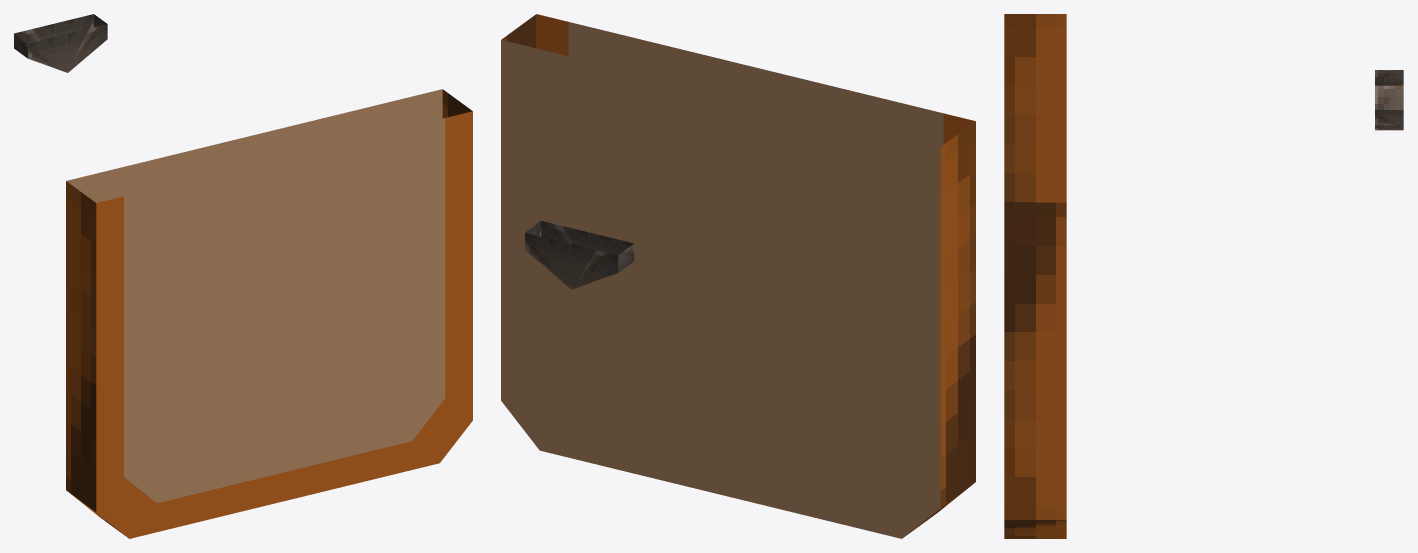
File: pz_g019_spiffos_type_a_table_part1.obj
The picture shows the model from 3 angles, left to right: view 1: azimuth 30°, elevation 25°; view 2: azimuth 150°, elevation 25°; view 3: azimuth 270°, elevation 25°; orthographic projection. The views are drawn at different scales.
Visible parts, largest first — view 1: tabletop_top, tabletop_rim, tabletop_bottom, tabletop_edge, pedestal_1_cap1, pedestal_1_cap0; view 2: tabletop_bottom, tabletop_edge, tabletop_top, pedestal_1_cap0, tabletop_rim, pedestal_1_cap1; view 3: tabletop_edge, pedestal_1_side.
Boxes of the visible parts, bbox=[...] form: tabletop_top: bbox=[124, 118, 445, 503]; tabletop_rim: bbox=[96, 111, 472, 538]; tabletop_bottom: bbox=[66, 89, 442, 202]; tabletop_edge: bbox=[66, 89, 472, 537]; pedestal_1_cap1: bbox=[28, 24, 107, 72]; pedestal_1_cap0: bbox=[14, 14, 93, 43]; tabletop_bottom: bbox=[501, 40, 940, 538]; tabletop_edge: bbox=[501, 14, 975, 536]; tabletop_top: bbox=[568, 22, 943, 146]; pedestal_1_cap0: bbox=[525, 232, 618, 289]; tabletop_rim: bbox=[536, 14, 975, 144]; pedestal_1_cap1: bbox=[541, 221, 633, 254]; tabletop_edge: bbox=[1004, 14, 1066, 538]; pedestal_1_side: bbox=[1375, 70, 1403, 130].
Size of the model in its own units: 1.02 by 0.8933 by 0.9151.
Materials: 1 (1 with a texture image).
